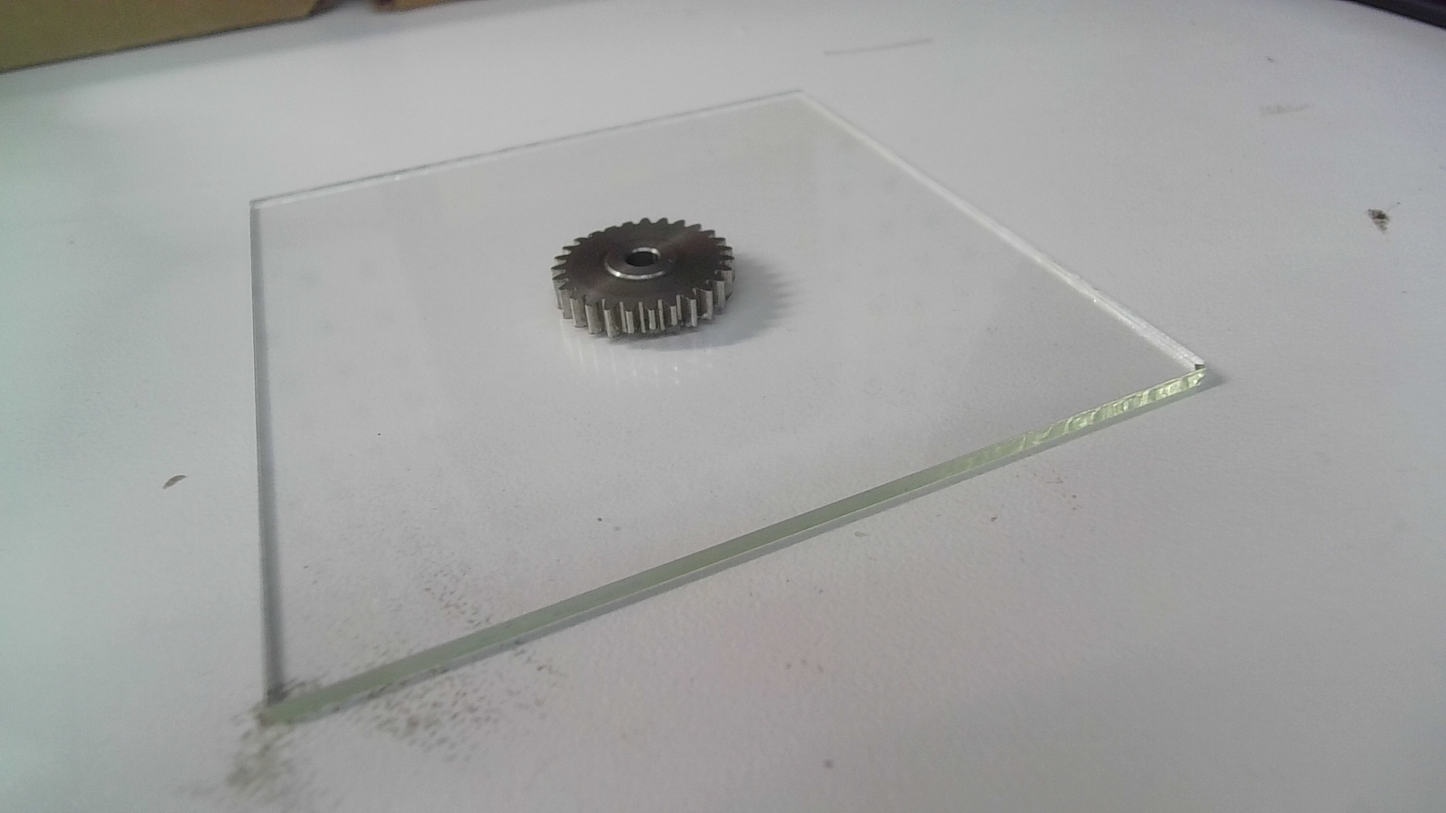gear: (551, 218, 744, 339)
